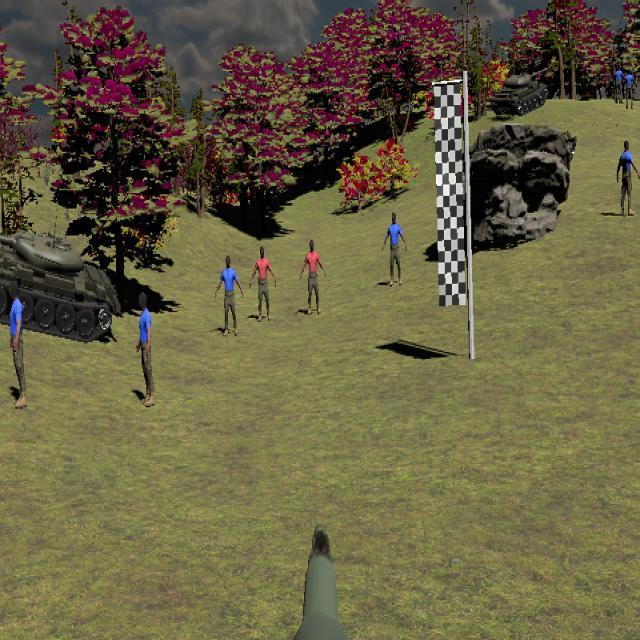Human: (9, 276, 27, 409), (215, 256, 243, 335), (136, 290, 154, 406), (300, 240, 327, 314), (300, 241, 327, 315), (250, 246, 276, 322), (250, 246, 276, 321), (616, 139, 640, 217), (382, 212, 407, 285), (617, 140, 640, 216), (622, 68, 636, 111)
Tank: (0, 229, 118, 343), (491, 72, 548, 117)
